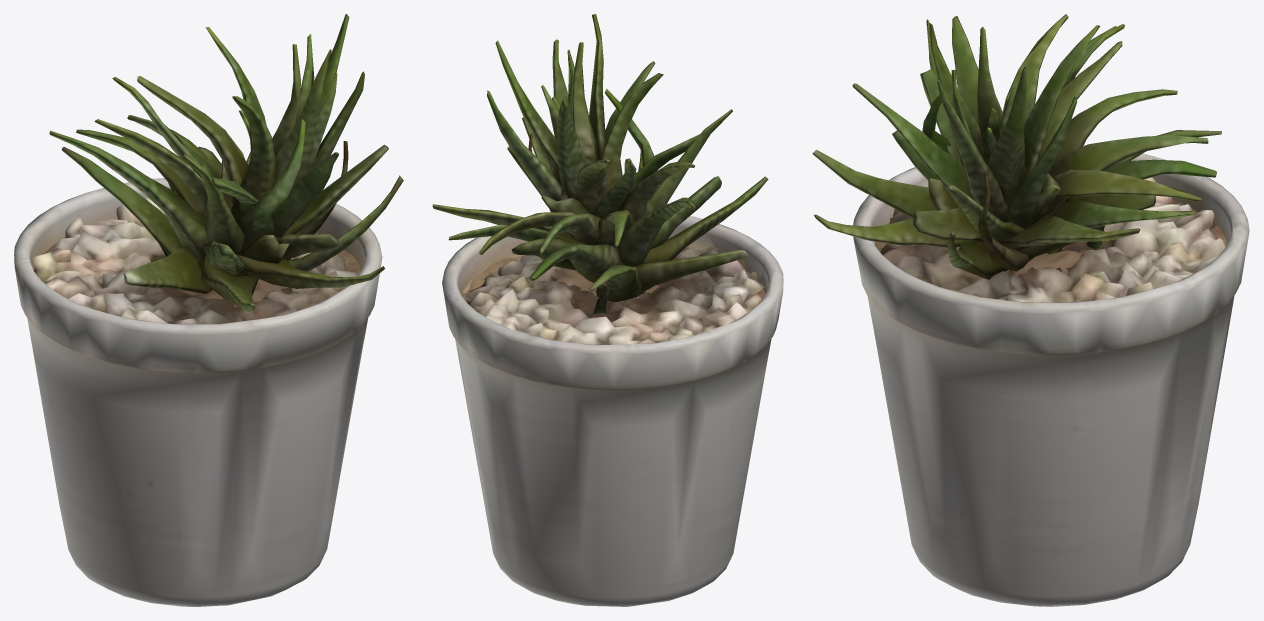
Rendered from potted_plant_04.glb.
The picture shows the model from 3 angles, left to right: view 1: azimuth 30°, elevation 25°; view 2: azimuth 150°, elevation 25°; view 3: azimuth 270°, elevation 25°; orthographic projection. The views are drawn at different scales.
Parts seen in each view (by area): view 1: potted_plant_04_ground; view 2: potted_plant_04_ground; view 3: potted_plant_04_ground.
Part boxes in pixels (x1,y1,x2,y2): potted_plant_04_ground: (14,14,403,606); potted_plant_04_ground: (432,14,783,606); potted_plant_04_ground: (812,14,1249,606).
Bounding box in the file's own units: 0.1674 × 0.2672 × 0.1848.
1 material, 1 textured.
